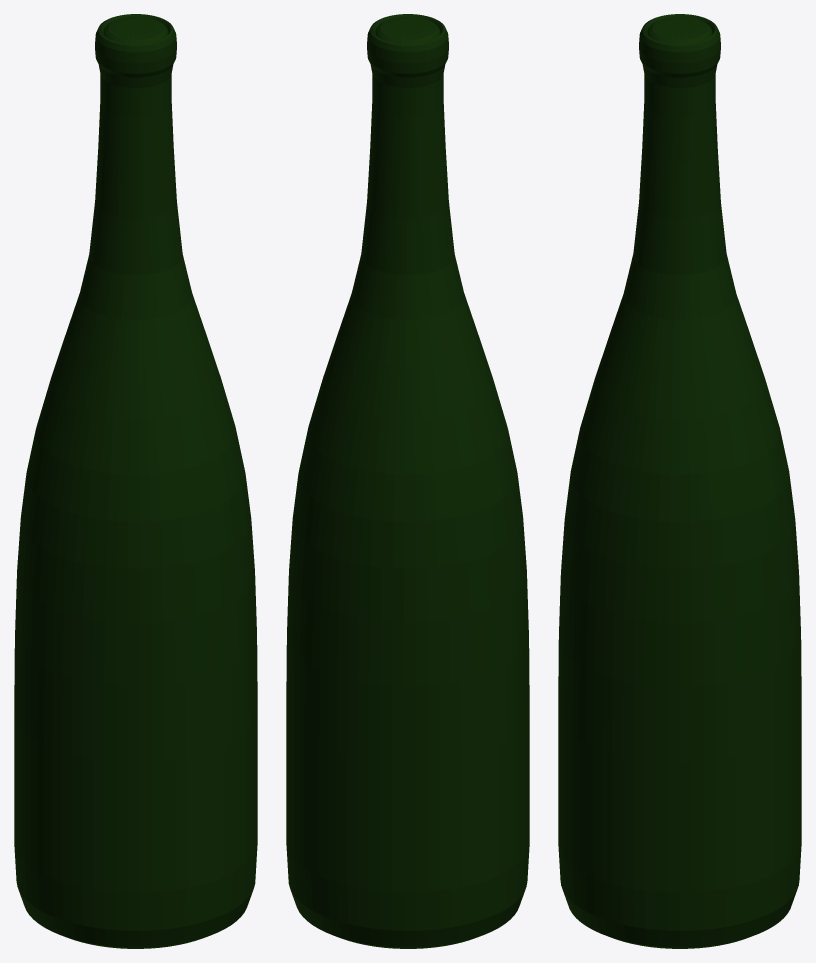
File: bottle_wine_high.obj
The picture shows the model from 3 angles, left to right: view 1: azimuth 30°, elevation 25°; view 2: azimuth 150°, elevation 25°; view 3: azimuth 270°, elevation 25°; orthographic projection.
Parts seen in each view (by area): view 1: wine_bottle_Circle.001; view 2: wine_bottle_Circle.001; view 3: wine_bottle_Circle.001.
Part boxes in pixels (x1,y1,x2,y2): wine_bottle_Circle.001: (14,14,257,948); wine_bottle_Circle.001: (286,14,529,948); wine_bottle_Circle.001: (558,14,801,948).
Size of the model in its own units: 2.84 by 11.32 by 2.84.
